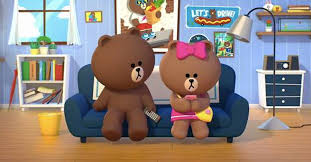line_brown: (87, 24, 158, 89)
